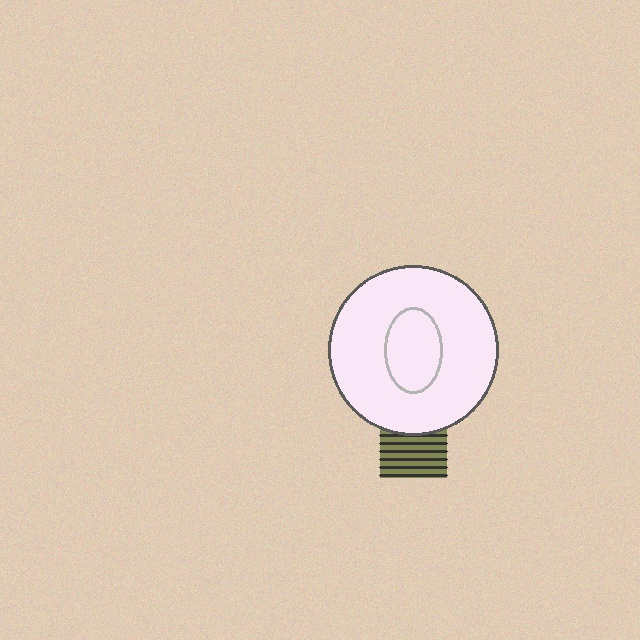bulb: (324, 261, 502, 482)
